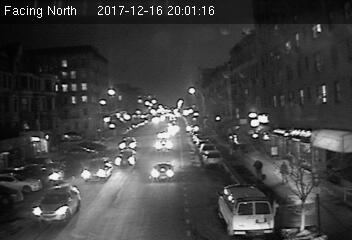car: (30, 186, 84, 225), (80, 158, 114, 181), (149, 162, 175, 182), (114, 149, 139, 169), (201, 150, 223, 168), (117, 136, 138, 151)
police: (214, 181, 278, 237)
